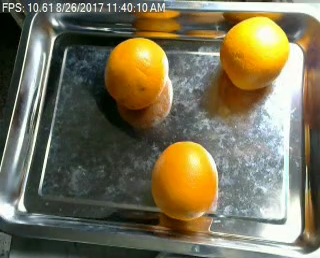Orange: (150, 140, 218, 220), (220, 15, 290, 88), (104, 37, 169, 108)
